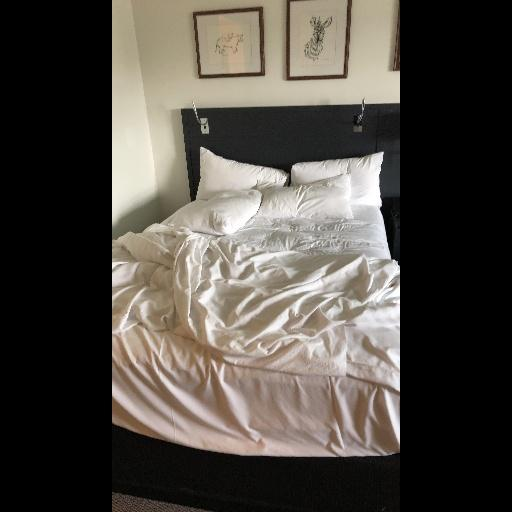Disorganized_pillow: (162, 148, 382, 231)
messy_bed: (108, 102, 398, 511)
